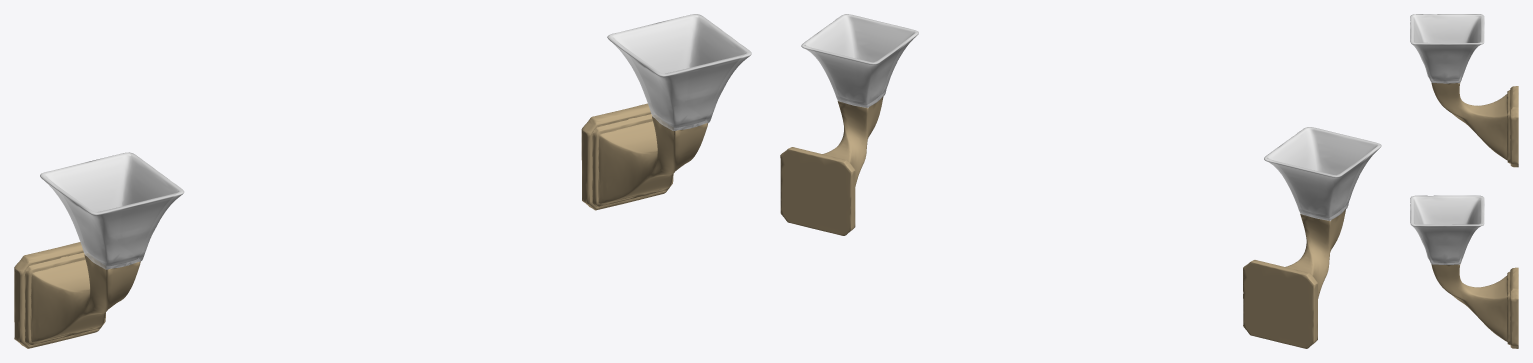
Rendered from brizo-virage-light.glb.
3 renders of one model, left to right at view 1: azimuth 30°, elevation 25°; view 2: azimuth 150°, elevation 25°; view 3: azimuth 270°, elevation 25°, orthographic. The views are drawn at different scales.
Visible parts, largest first — view 1: tripo_part_2.001, tripo_part_2, tripo_part_1, tripo_part_1.001, tripo_part_3.001, tripo_part_3, tripo_part_0.001, tripo_part_0; view 2: tripo_part_2.001, tripo_part_2, tripo_part_3.001, tripo_part_3, tripo_part_1.001, tripo_part_1; view 3: tripo_part_2.001, tripo_part_2, tripo_part_1, tripo_part_1.001, tripo_part_3, tripo_part_3.001, tripo_part_0, tripo_part_0.001.
Part boxes in pixels (x1=…): tripo_part_2.001: x1=607, y1=14, x2=751, y2=130; tripo_part_2: x1=40, y1=152, x2=184, y2=269; tripo_part_1: x1=30, y1=255, x2=140, y2=342; tripo_part_1.001: x1=598, y1=117, x2=708, y2=203; tripo_part_3.001: x1=581, y1=103, x2=673, y2=210; tripo_part_3: x1=14, y1=242, x2=105, y2=348; tripo_part_0.001: x1=591, y1=114, x2=670, y2=206; tripo_part_0: x1=23, y1=252, x2=103, y2=344; tripo_part_2.001: x1=801, y1=14, x2=918, y2=107; tripo_part_2: x1=1264, y1=127, x2=1381, y2=220; tripo_part_3.001: x1=780, y1=147, x2=855, y2=235; tripo_part_3: x1=1243, y1=260, x2=1317, y2=348; tripo_part_1.001: x1=822, y1=96, x2=883, y2=186; tripo_part_1: x1=1285, y1=209, x2=1345, y2=298; tripo_part_2.001: x1=1410, y1=195, x2=1484, y2=264; tripo_part_2: x1=1410, y1=14, x2=1484, y2=83; tripo_part_1: x1=1431, y1=82, x2=1507, y2=159; tripo_part_1.001: x1=1431, y1=264, x2=1507, y2=341; tripo_part_3: x1=1510, y1=86, x2=1518, y2=167; tripo_part_3.001: x1=1510, y1=267, x2=1518, y2=348; tripo_part_0: x1=1506, y1=90, x2=1510, y2=163; tripo_part_0.001: x1=1506, y1=271, x2=1510, y2=345.
Size of the model in its own units: 3.49 by 0.9809 by 0.7544.
